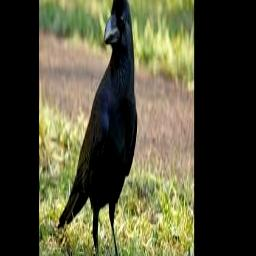Crow: (58, 0, 137, 256)
